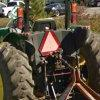Tractor: (2, 11, 100, 100)
